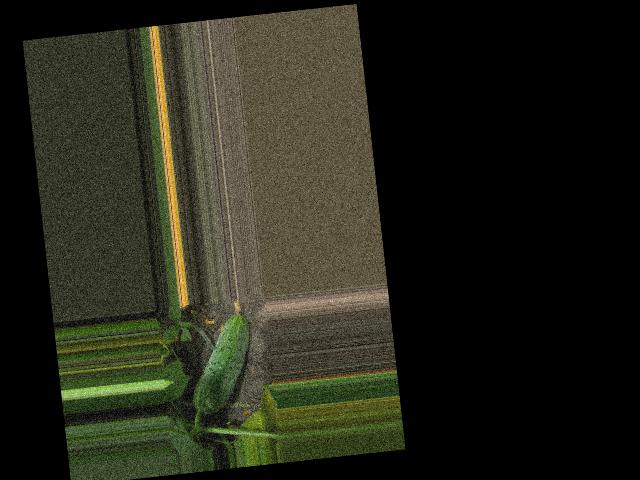cucumber: (182, 298, 259, 415)
